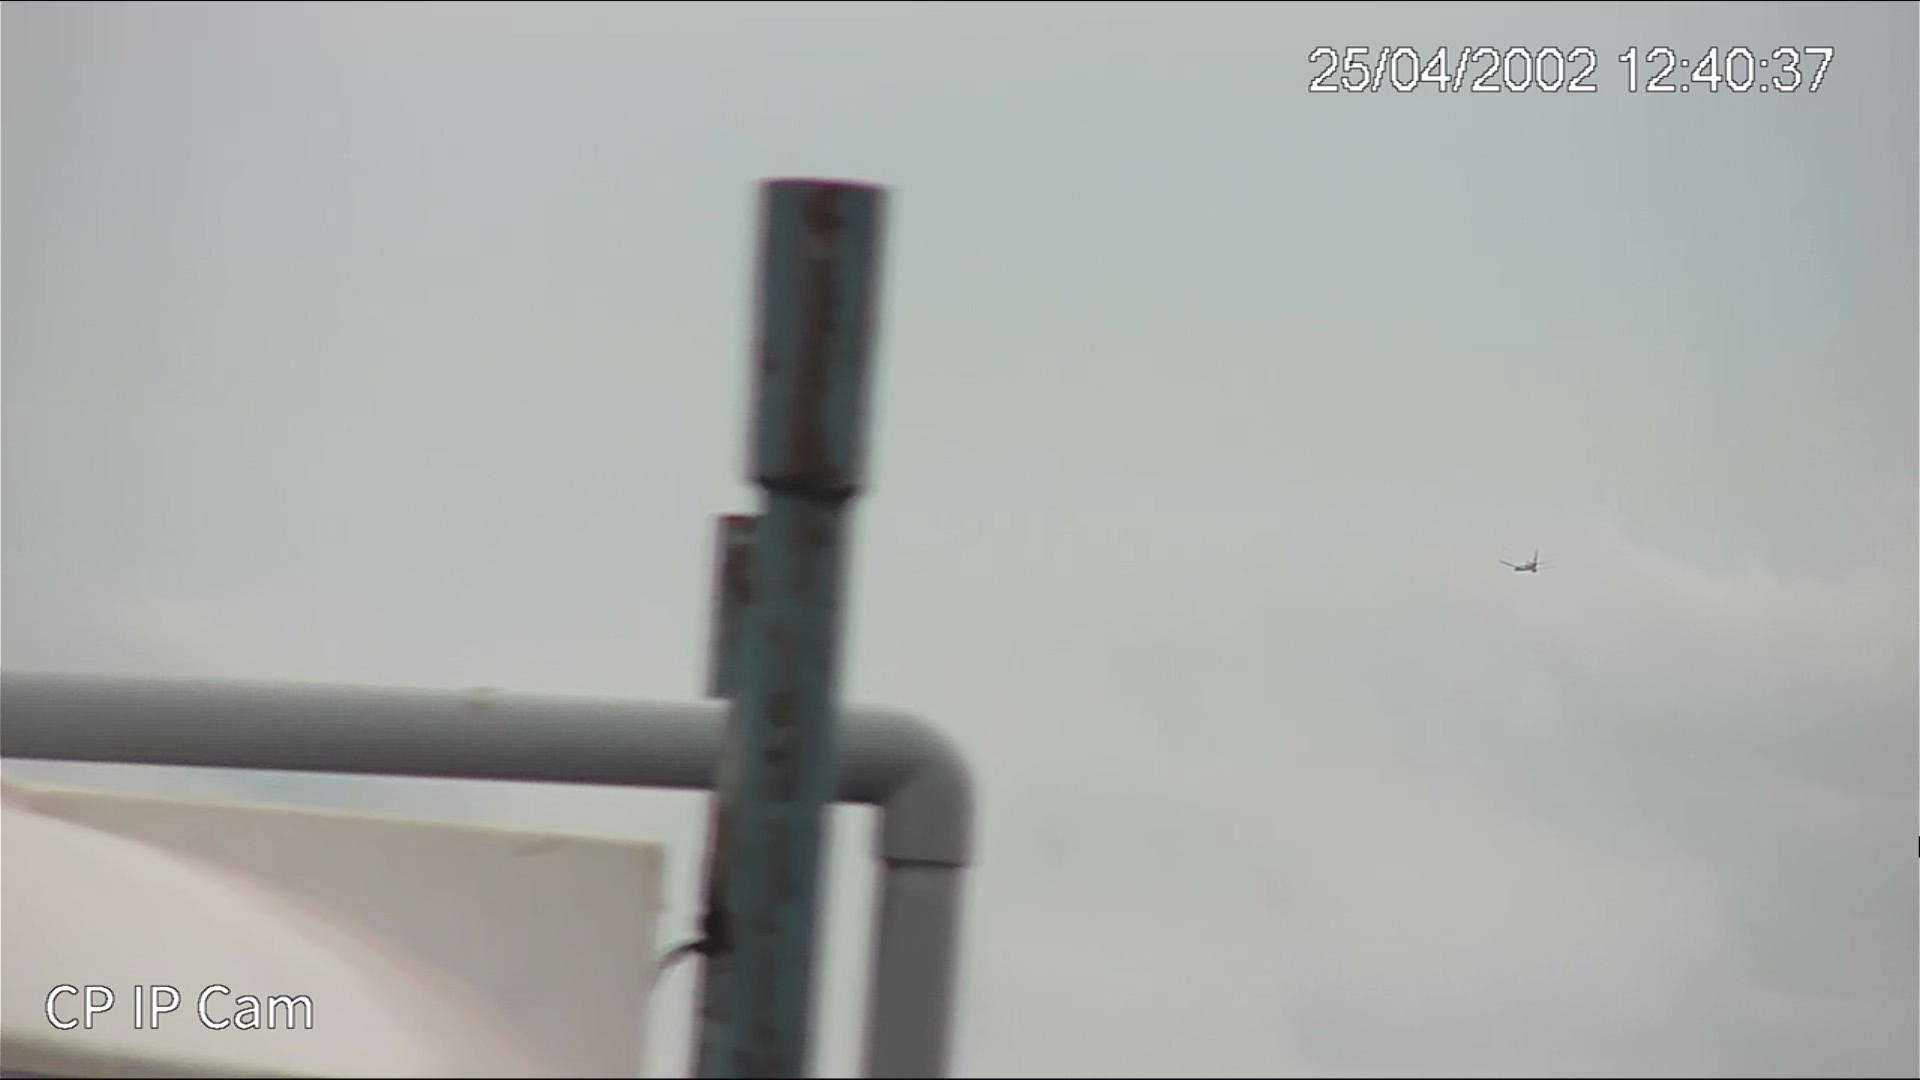SU_30: (1509, 558, 1544, 574)
